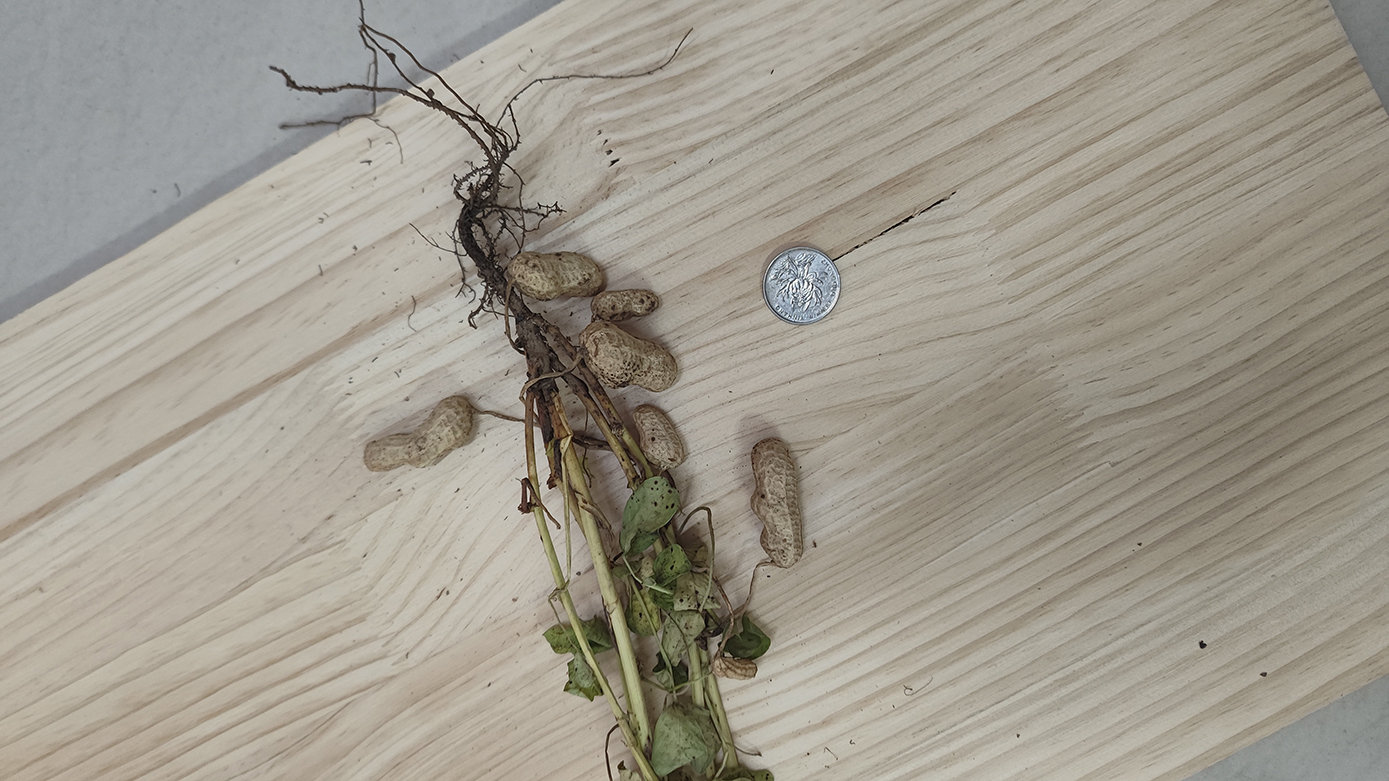h: (363, 394, 474, 473), (750, 437, 804, 569), (579, 323, 676, 392), (509, 251, 604, 300), (631, 405, 684, 469), (590, 289, 659, 322)
l: (714, 656, 758, 681)
